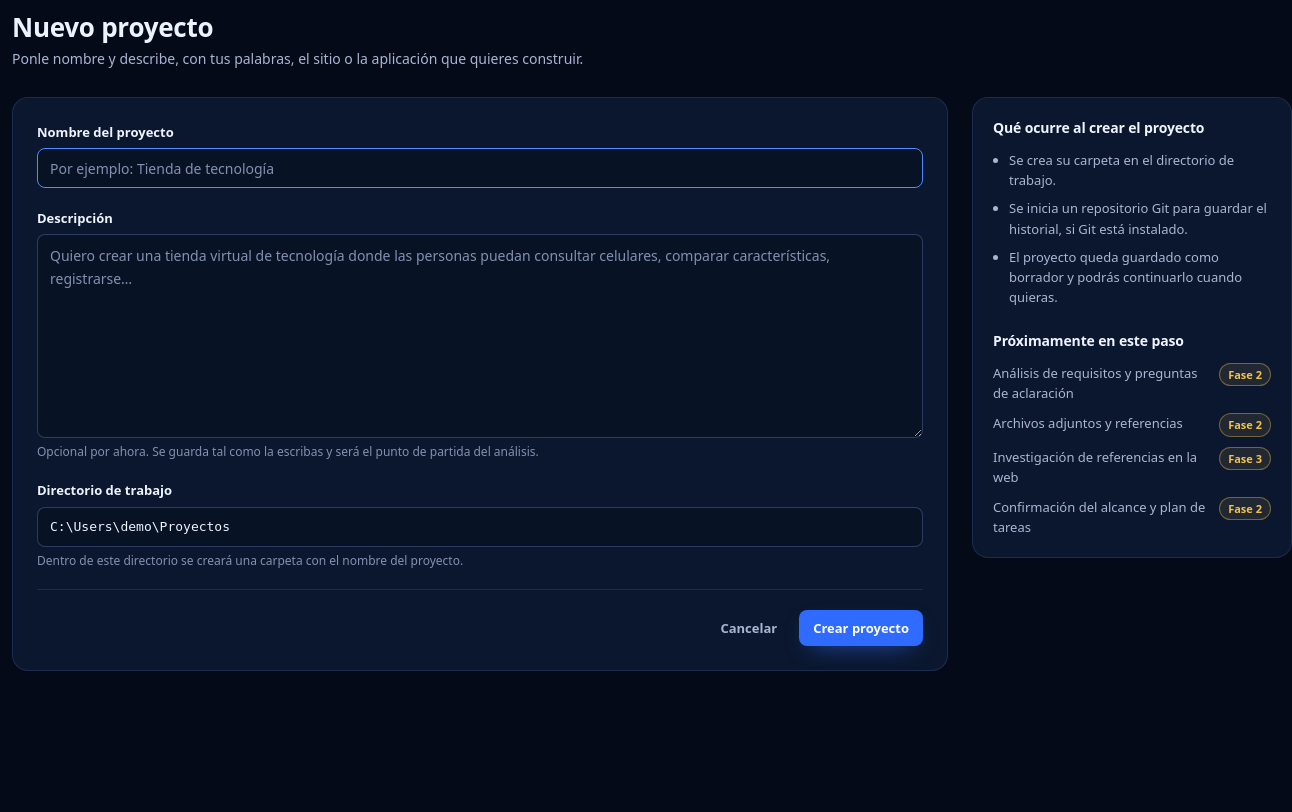
it: NewProject › valida que el nombre no esté vacío sin llamar al backend
The image size is (1292, 812).
Click the button "Crear proyecto": [861, 628] box [799,610,923,646]
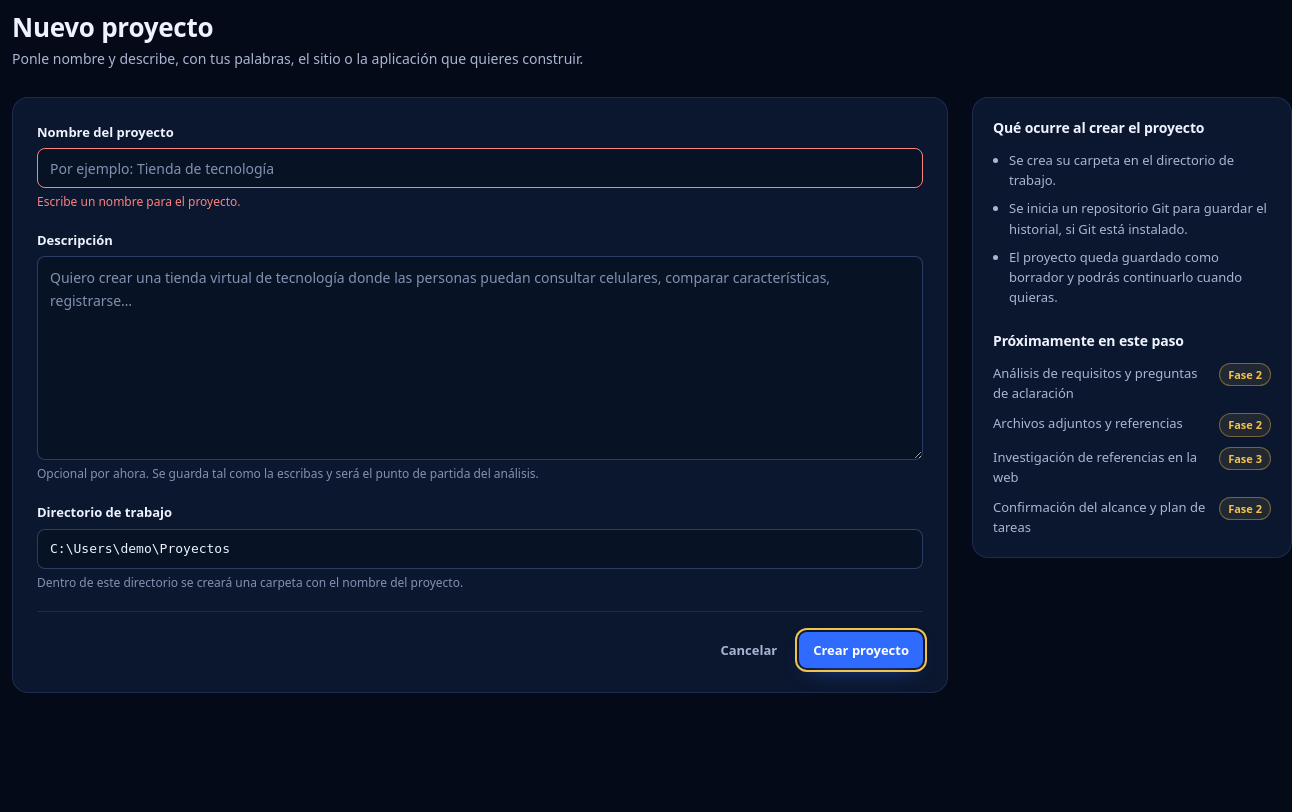
Expected: the message reads "Escribe un nombre para el proyecto.", [37,193,241,210]
